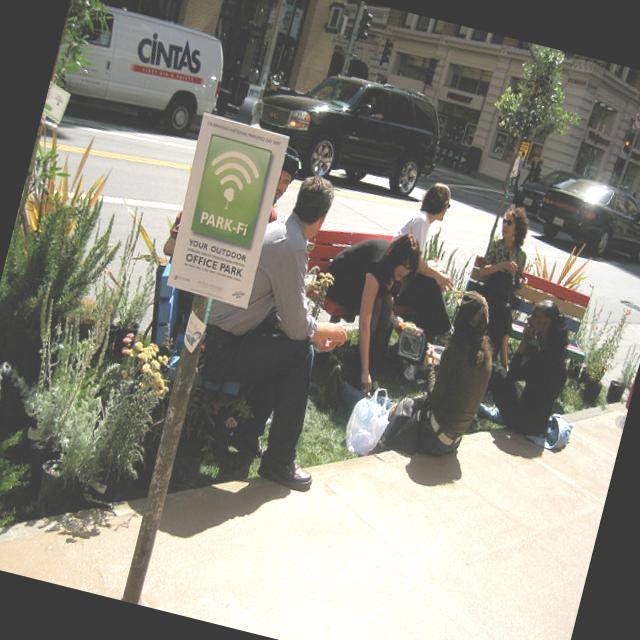Vehicle: (247, 56, 454, 208), (48, 2, 225, 135), (528, 168, 640, 269), (512, 159, 584, 224)
